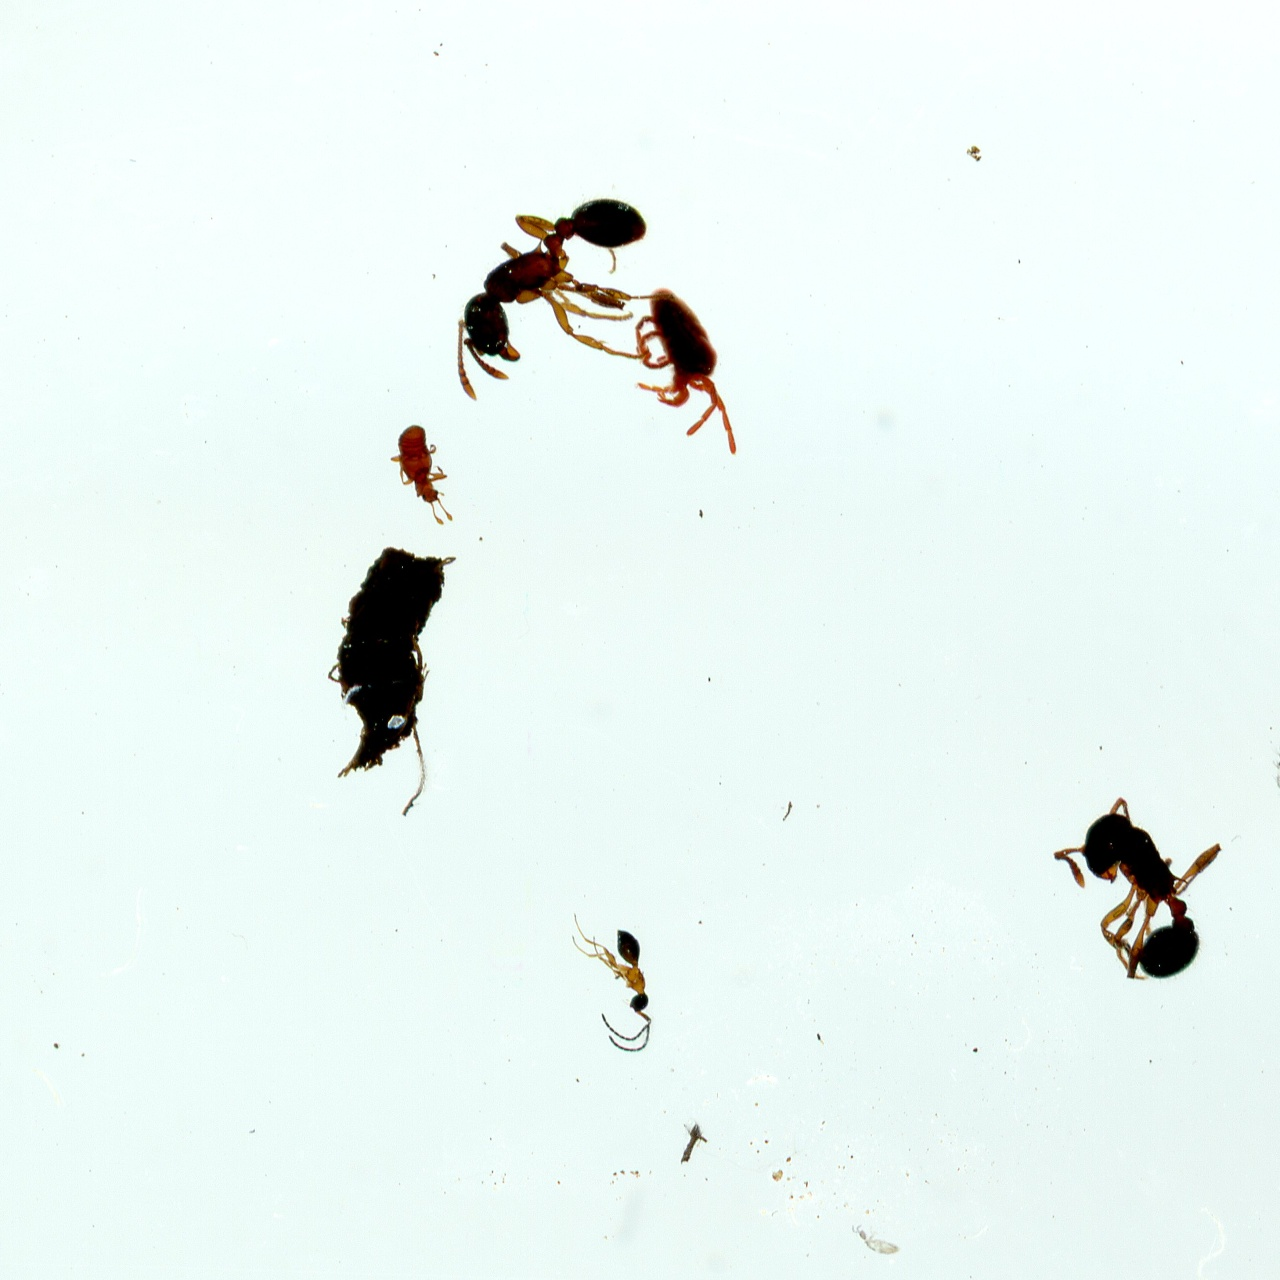arthropod: (452, 193, 661, 401), (1046, 792, 1228, 994), (619, 279, 741, 459), (568, 911, 661, 1064), (381, 417, 461, 536), (843, 1218, 917, 1267), (1269, 680, 1280, 837)
